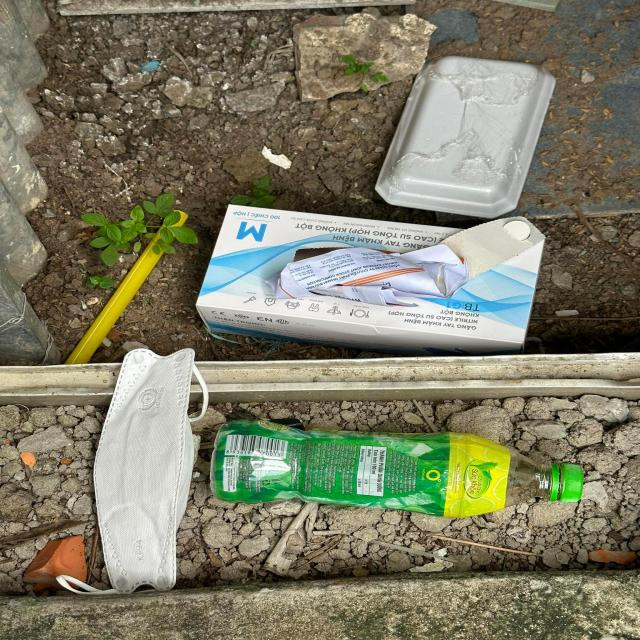bottle: (211, 419, 583, 517)
cardboard box: (195, 204, 546, 350)
drinking straw: (67, 210, 190, 366)
foam box: (374, 56, 557, 218)
mask: (57, 347, 211, 597)
paper: (263, 243, 469, 308)
